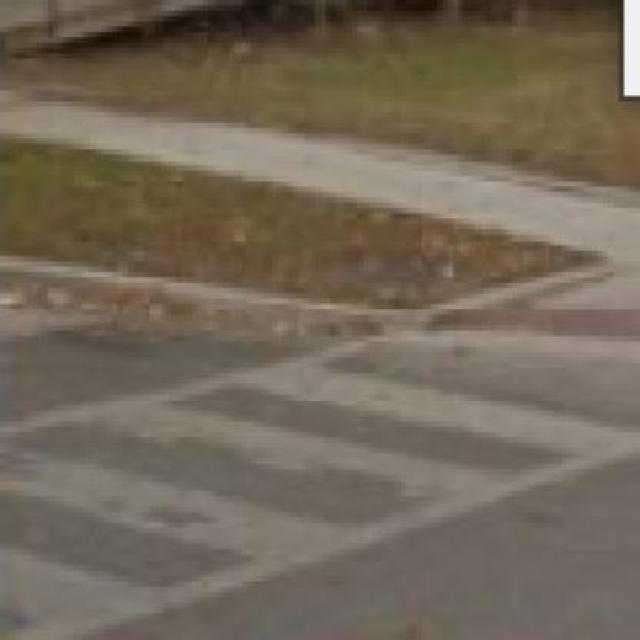crosswalk: (1, 361, 639, 636)
